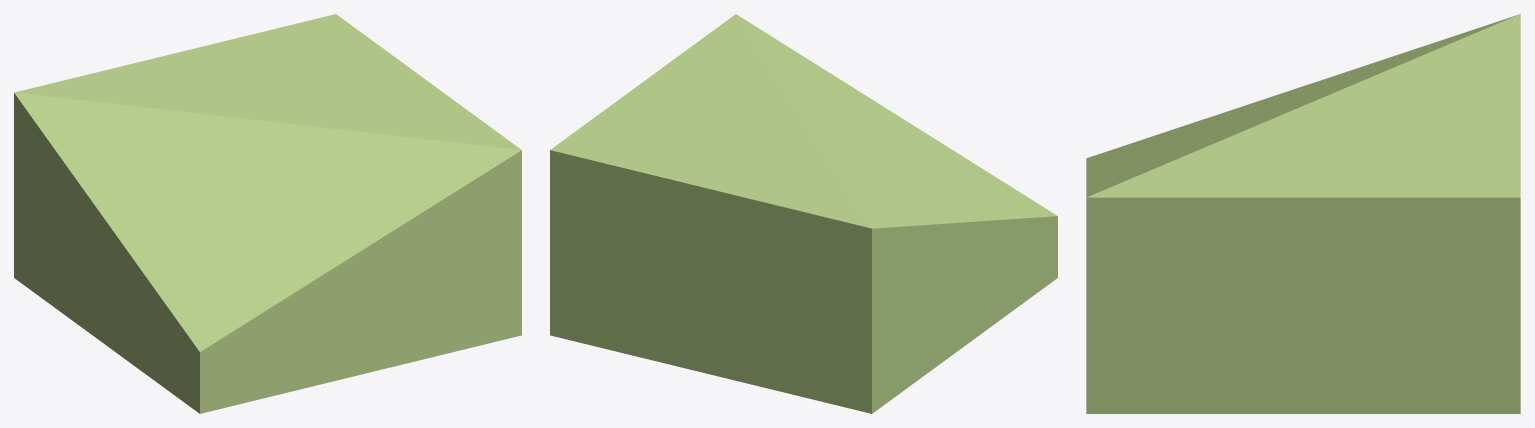
File: tile072.glb
The picture shows the model from 3 angles, left to right: view 1: azimuth 30°, elevation 25°; view 2: azimuth 150°, elevation 25°; view 3: azimuth 270°, elevation 25°; orthographic projection. The views are drawn at different scales.
Visible parts, largest first — view 1: tile072; view 2: tile072; view 3: tile072.
Part boxes in pixels (x1=…): tile072: x1=14, y1=14, x2=521, y2=413; tile072: x1=550, y1=14, x2=1057, y2=413; tile072: x1=1086, y1=14, x2=1520, y2=413.
Bounding box in the file's own units: 1 × 0.55 × 1.
